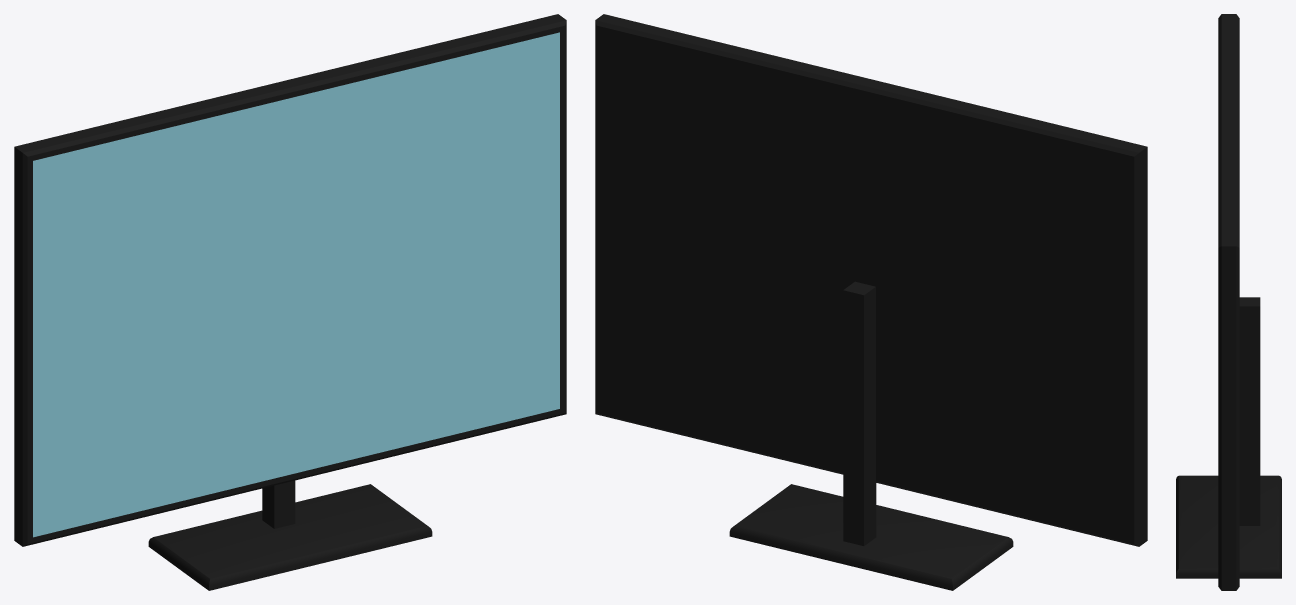
Rendered from Computador.fbx.
3 renders of one model, left to right at view 1: azimuth 30°, elevation 25°; view 2: azimuth 150°, elevation 25°; view 3: azimuth 270°, elevation 25°, orthographic. The views are drawn at different scales.
Parts seen in each view (by area): view 1: Computador; view 2: Computador; view 3: Computador.
Part boxes in pixels (x1,y1,x2,y2): Computador: [14, 14, 566, 590]; Computador: [595, 14, 1147, 590]; Computador: [1176, 14, 1281, 590].
Size of the model in its own units: 104 by 83.72 by 20.
